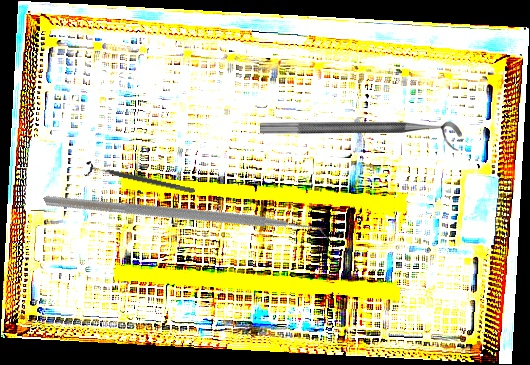Chopper: (43, 93, 333, 354)
Fixation Ring: (260, 121, 462, 151), (83, 159, 197, 200)
